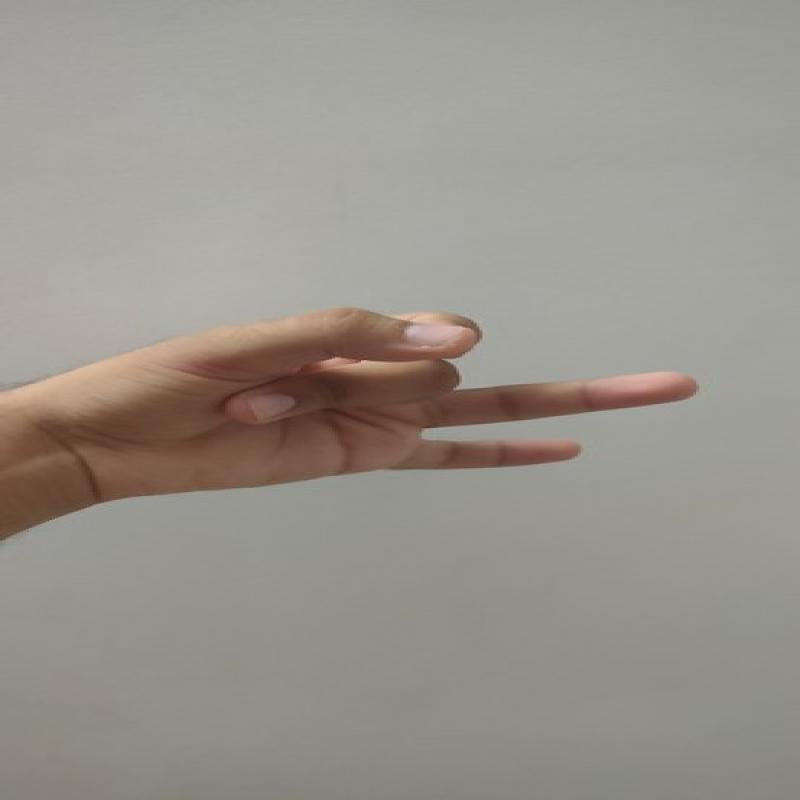Katakam: (69, 286, 707, 509)
